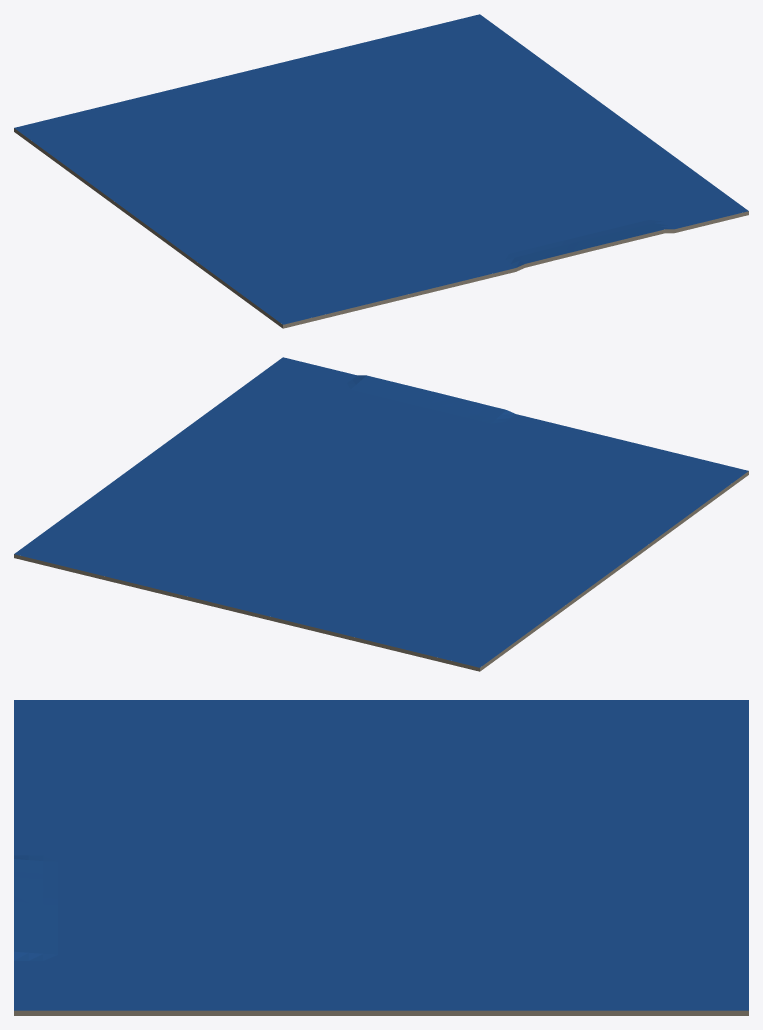
File: parca_+8_+3-uzak.glb
3 views of the same model, one above another, from view 1: azimuth 30°, elevation 25°; view 2: azimuth 150°, elevation 25°; view 3: azimuth 270°, elevation 25° (orthographic). The views are drawn at different scales.
Parts seen in each view (by area): view 1: parca_+8_+3_arazi_uzak; view 2: parca_+8_+3_arazi_uzak; view 3: parca_+8_+3_arazi_uzak.
Boxes of the visible parts, x1,y1,x2,y2 form: parca_+8_+3_arazi_uzak: [14, 14, 748, 328]; parca_+8_+3_arazi_uzak: [14, 357, 748, 671]; parca_+8_+3_arazi_uzak: [14, 700, 748, 1015].
Size of the model in its own units: 1000 by 12.52 by 1000.
